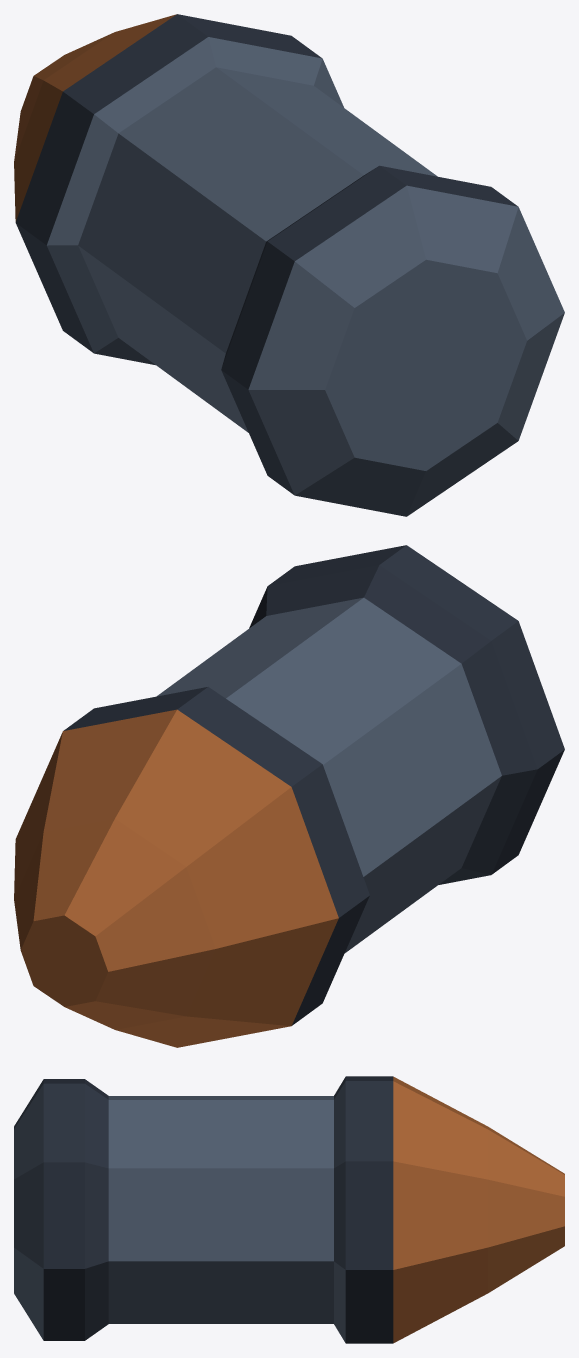
The model's file is BroadsideWarhead.obj.
The picture shows the model from 3 angles, top to bottom: view 1: azimuth 30°, elevation 25°; view 2: azimuth 150°, elevation 25°; view 3: azimuth 270°, elevation 25°; orthographic projection. The views are drawn at different scales.
Parts seen in each view (by area): view 1: BroadsideWarhead; view 2: BroadsideWarhead; view 3: BroadsideWarhead.
Part boxes in pixels (left/top/right/bottom): BroadsideWarhead: left=14, top=14, right=564, bottom=516; BroadsideWarhead: left=14, top=545, right=564, bottom=1047; BroadsideWarhead: left=14, top=1076, right=564, bottom=1343.
Bounding box in the file's own units: 0.48 × 0.48 × 0.93.
